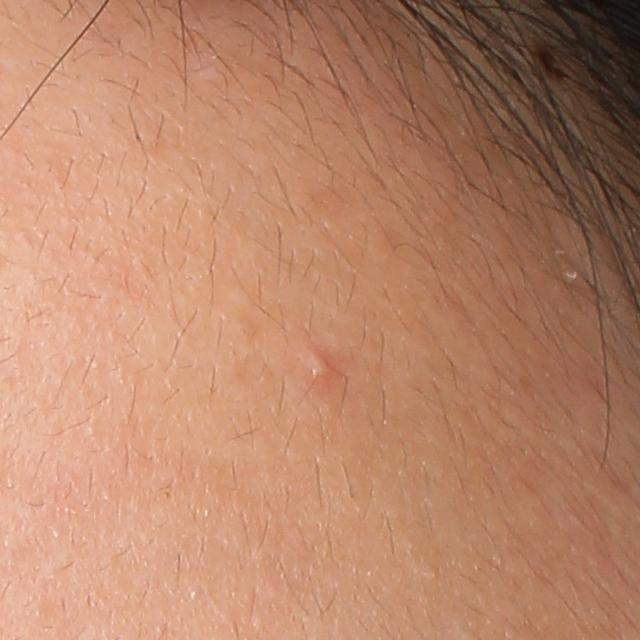papule: (301, 350, 334, 387)
